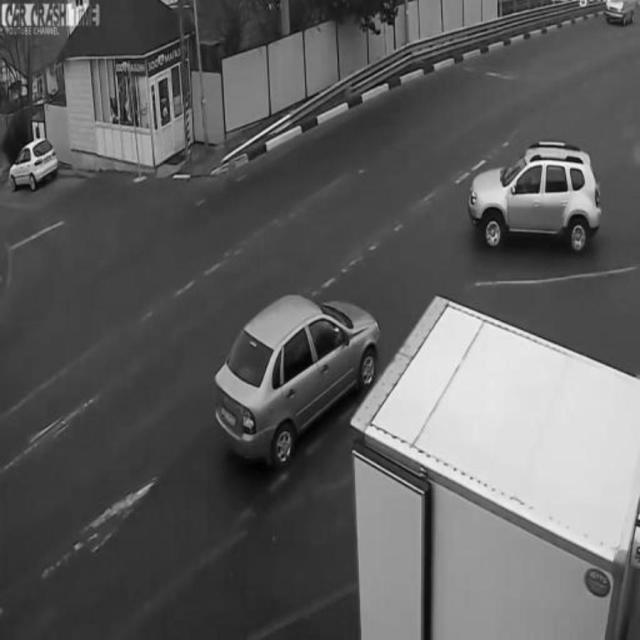vehicle: (216, 290, 378, 452), (466, 136, 602, 249), (9, 130, 56, 191)
